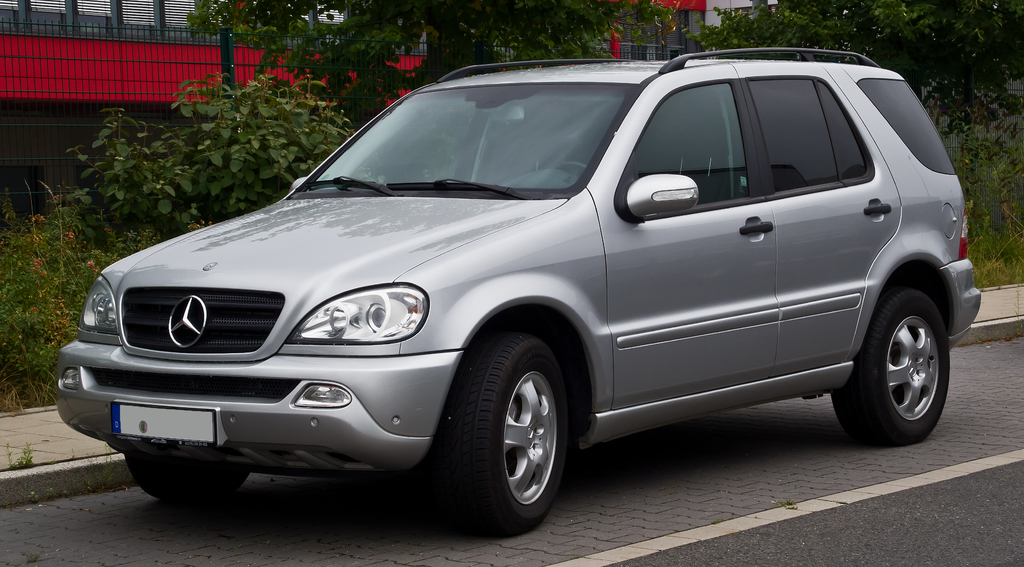Car: (49, 41, 983, 534)
